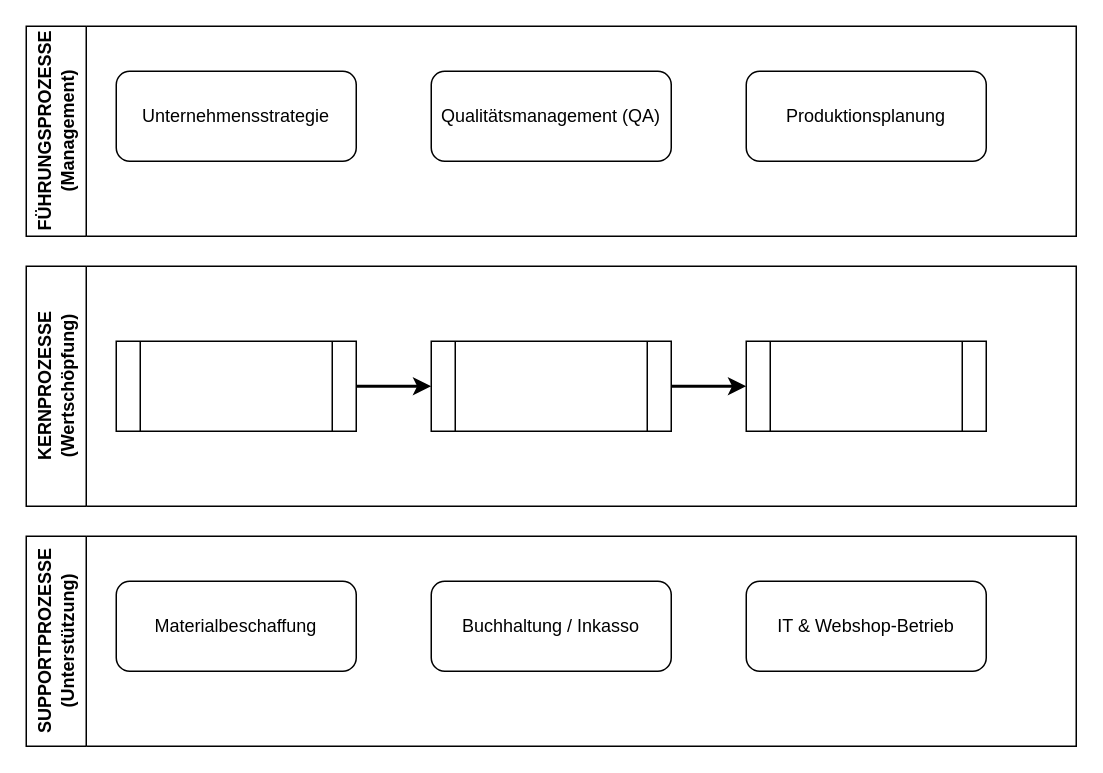
Some shapes in this 1103 by 773 pixel diagram are drawn without their labels. Here are the shapes that lost their labels. From the top down, the centre of each, then its label:
[235,385]: 1. Verkauf & Webshop
[550,385]: 2. Produktion & Fertigung
[865,385]: 3. Logistik & Versand
